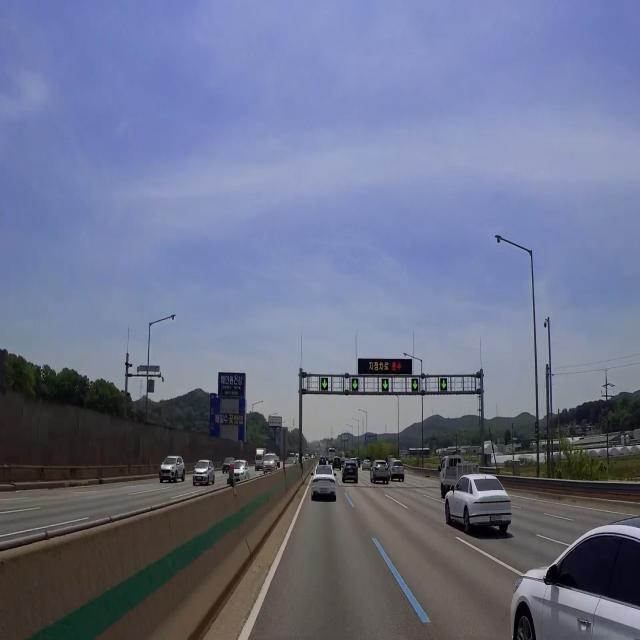car: (487, 512, 506, 526), (317, 488, 334, 500)
